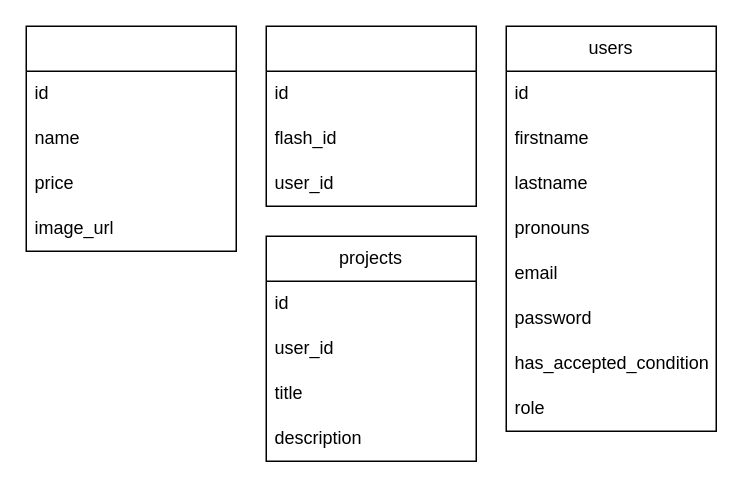
Some shapes in this 743 by 488 pixel diagram are drawn without their labels. Each missing label, with the box of its shape:
flash_likes: (265, 25, 476, 206)
flashs: (25, 25, 236, 251)
